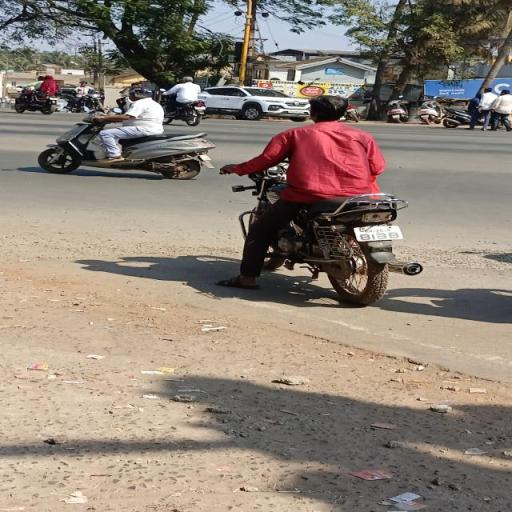bike: (219, 88, 425, 311)
numberplate: (354, 224, 404, 242)
withouthelmet: (311, 95, 347, 122)
